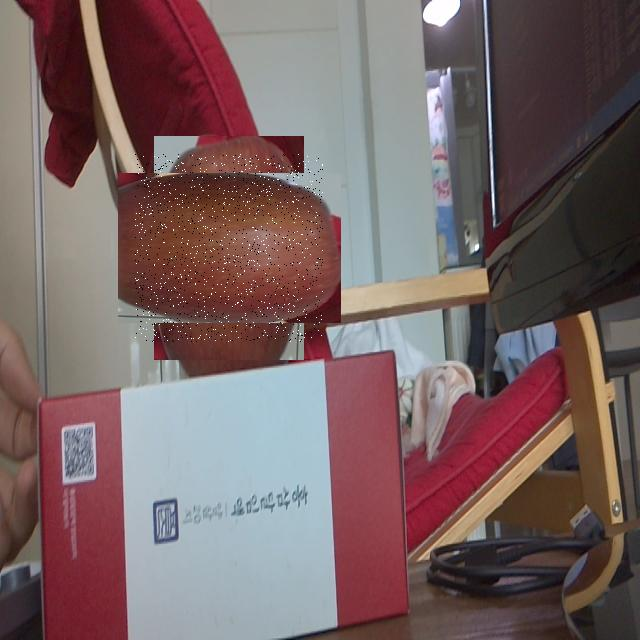apple: (135, 154, 323, 342)
